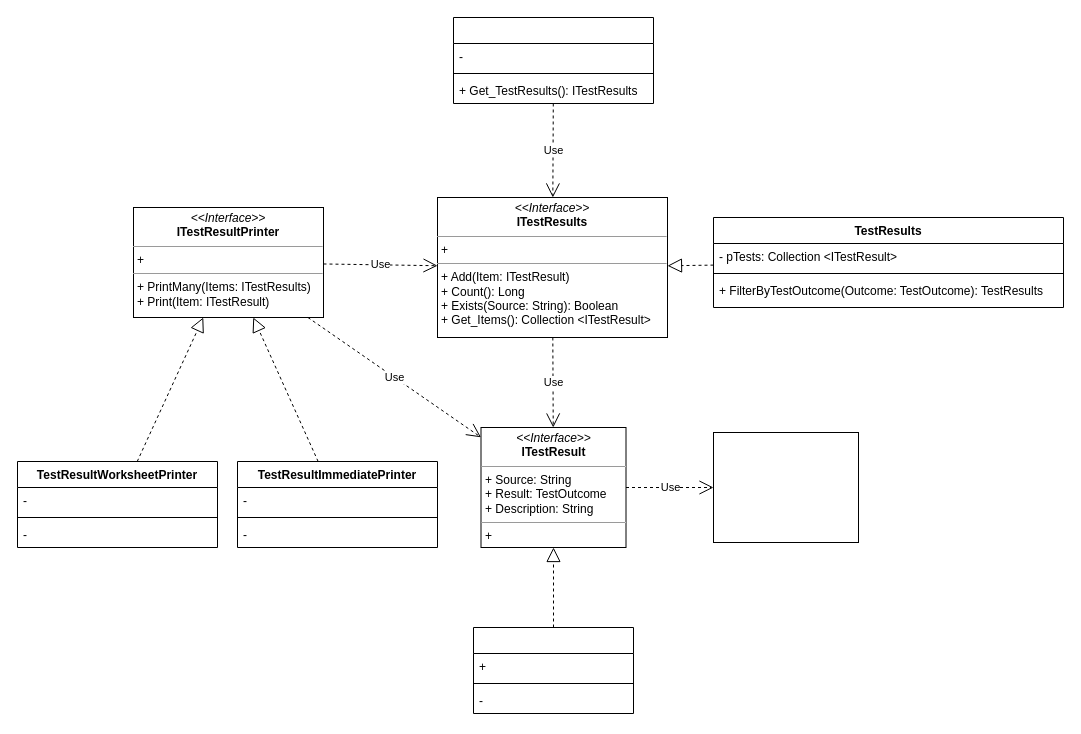
This 1081x734 diagram has some shape labels left out. Each missing label, with the box of its shape:
<<Enumerator>> TestOutcome + Failed = 0 + Passed = 1 +: (712, 432, 858, 542)
TestResult: (472, 626, 634, 714)
TestRunner: (452, 16, 654, 104)
